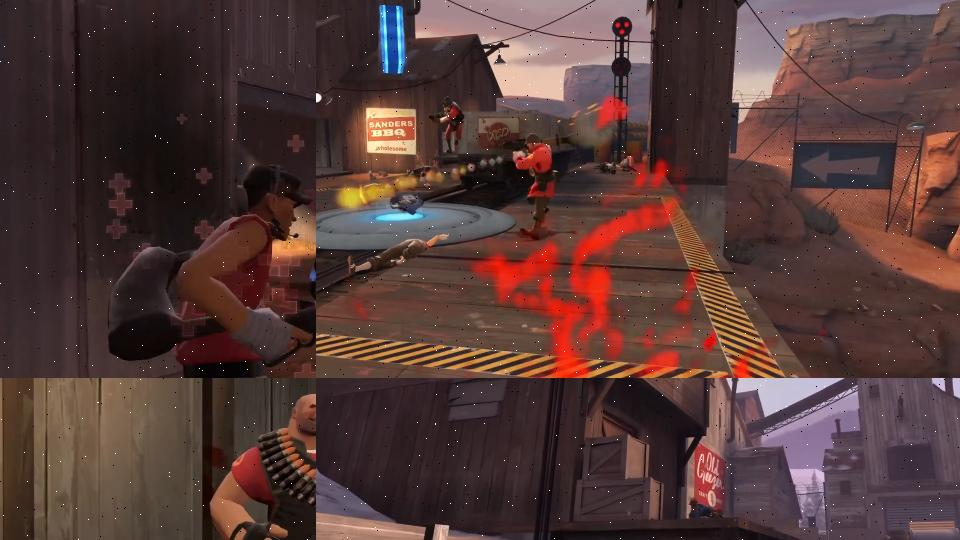Enemy: (101, 160, 316, 378), (208, 390, 316, 540), (501, 133, 560, 240), (347, 233, 450, 275), (429, 96, 466, 155)
